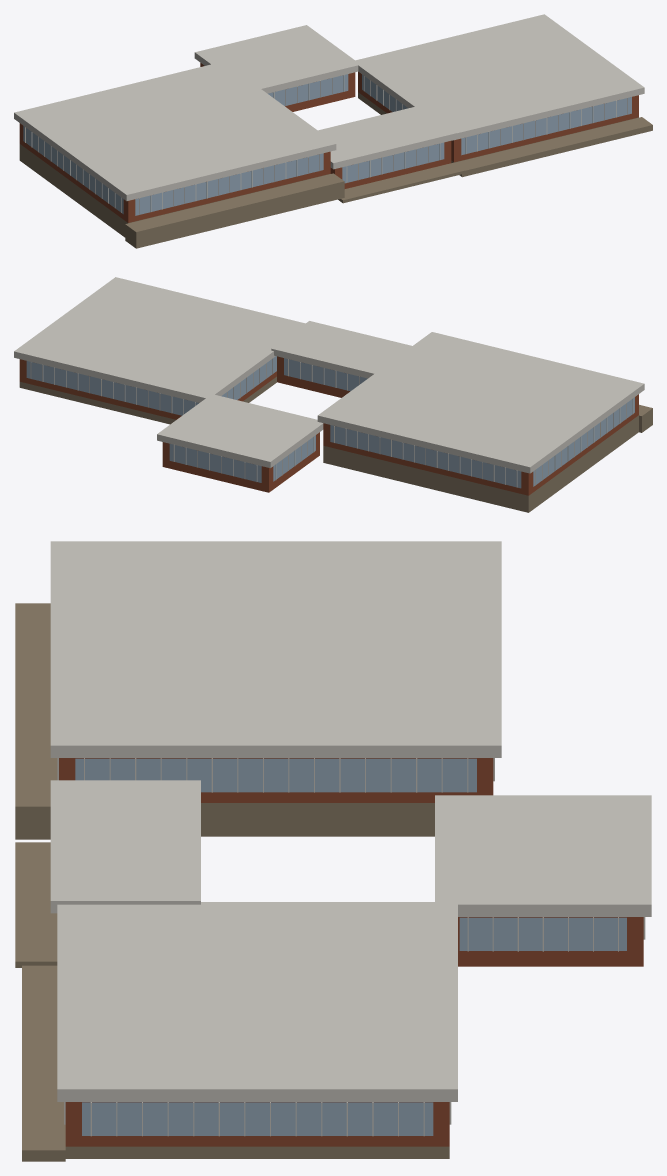
The model's file is lru-science-building-1961.glb.
3 renders of one model, top to bottom at view 1: azimuth 30°, elevation 25°; view 2: azimuth 150°, elevation 25°; view 3: azimuth 270°, elevation 25°, orthographic. The views are drawn at different scales.
Visible parts, largest first — view 1: lru_science_building_1961; view 2: lru_science_building_1961; view 3: lru_science_building_1961.
Boxes of the visible parts, box(x1,y1,x2,y2) form: lru_science_building_1961: box(14, 14, 652, 248); lru_science_building_1961: box(14, 277, 652, 512); lru_science_building_1961: box(15, 541, 651, 1161).
Size of the model in its own units: 87.58 by 9.17 by 46.46.
